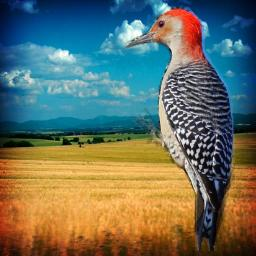Woodpecker: (125, 6, 235, 251)
